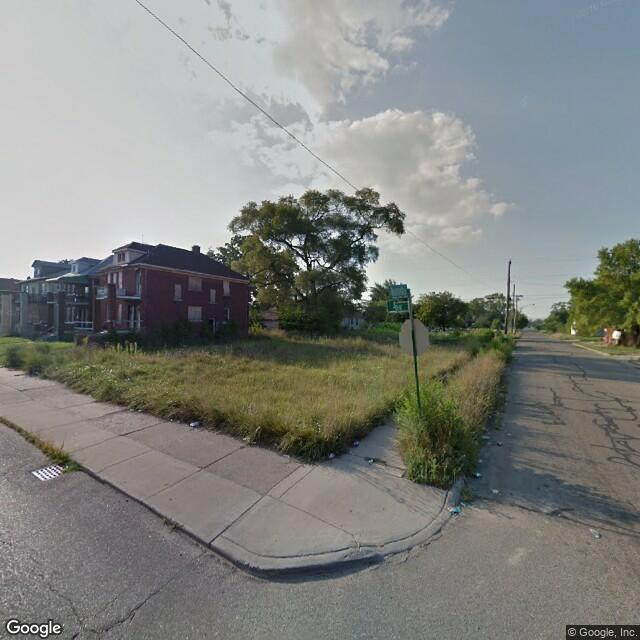litter: (436, 497, 464, 521), (480, 431, 504, 450), (323, 447, 341, 458), (489, 482, 497, 500), (471, 464, 480, 479), (185, 414, 194, 428), (365, 457, 379, 465)
